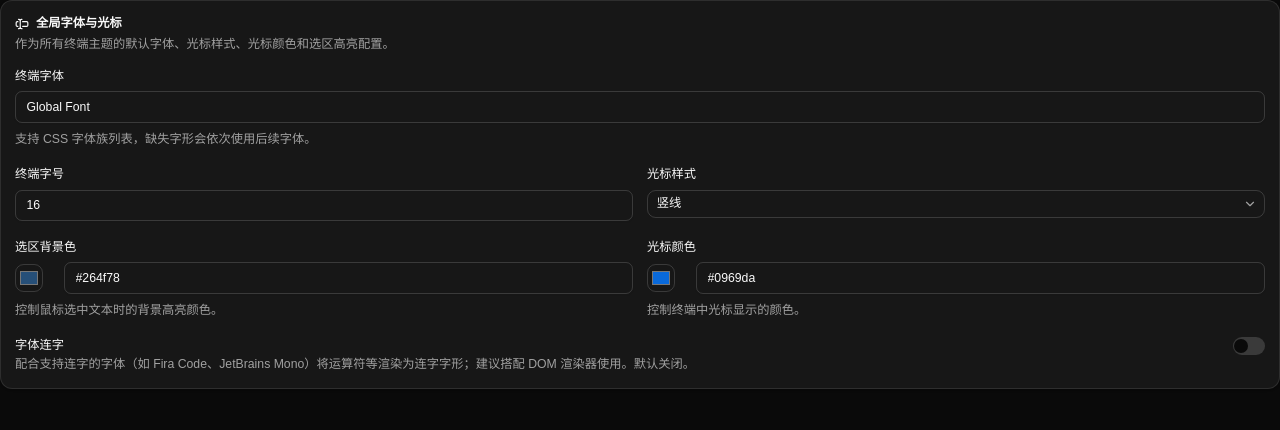
Test case: TerminalGlobalStyleEditor › reports invalid font sizes instead of retaining the previous value
The image size is (1280, 430).
Clear the number field named "全局终端字号" at point(324, 205), box [15,190,633,221]
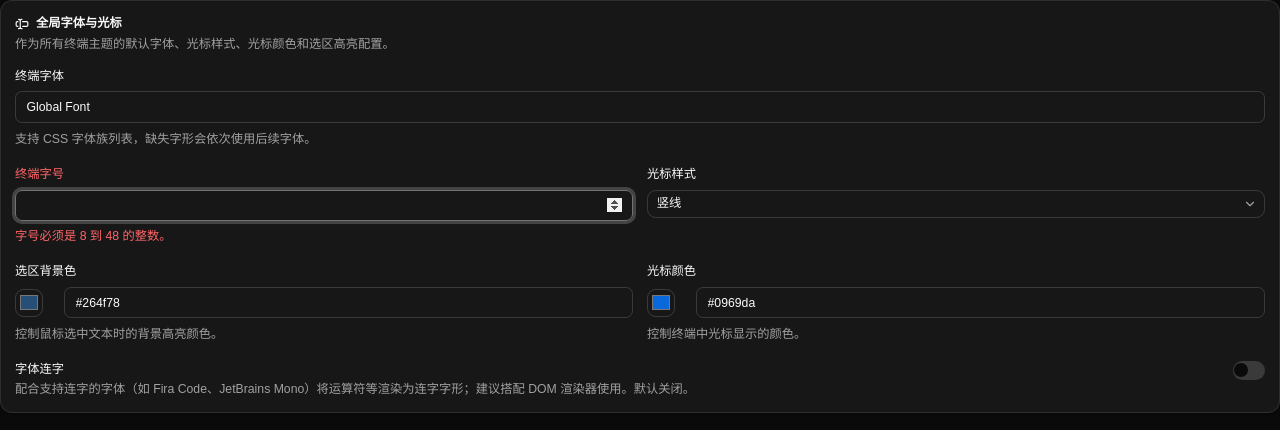
Check: the message shows "字号必须是 8 到 48 的整数", box [15,229,172,243]
